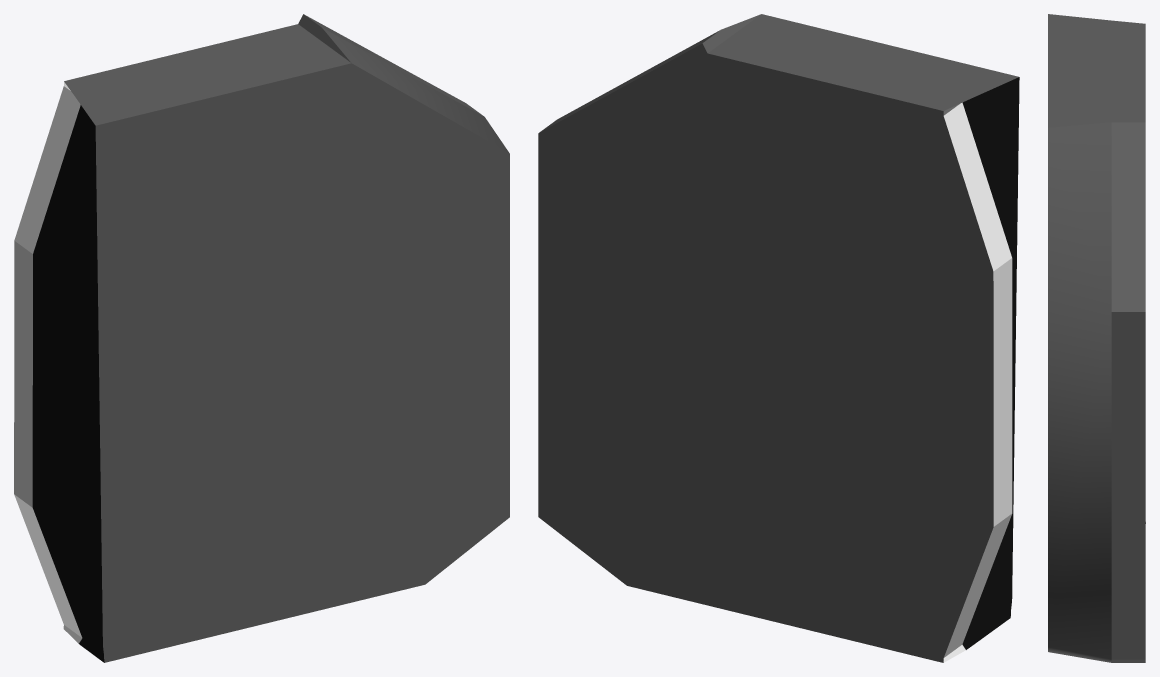
3 renders of one model, left to right at view 1: azimuth 30°, elevation 25°; view 2: azimuth 150°, elevation 25°; view 3: azimuth 270°, elevation 25°, orthographic. The views are drawn at different scales.
Parts seen in each view (by area): view 1: Door_L; view 2: Door_L; view 3: Door_L.
Boxes of the visible parts, <box> form: Door_L: <box>14,14,509,662</box>; Door_L: <box>538,14,1019,662</box>; Door_L: <box>1048,14,1145,662</box>.
Bounding box in the file's own units: 254 × 300 × 52.28.
3 materials, 1 textured.
